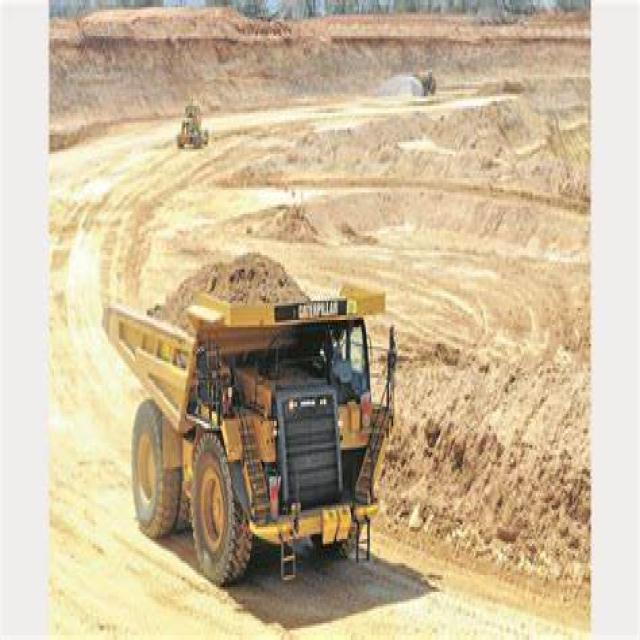dump_truck: (105, 200, 450, 592)
